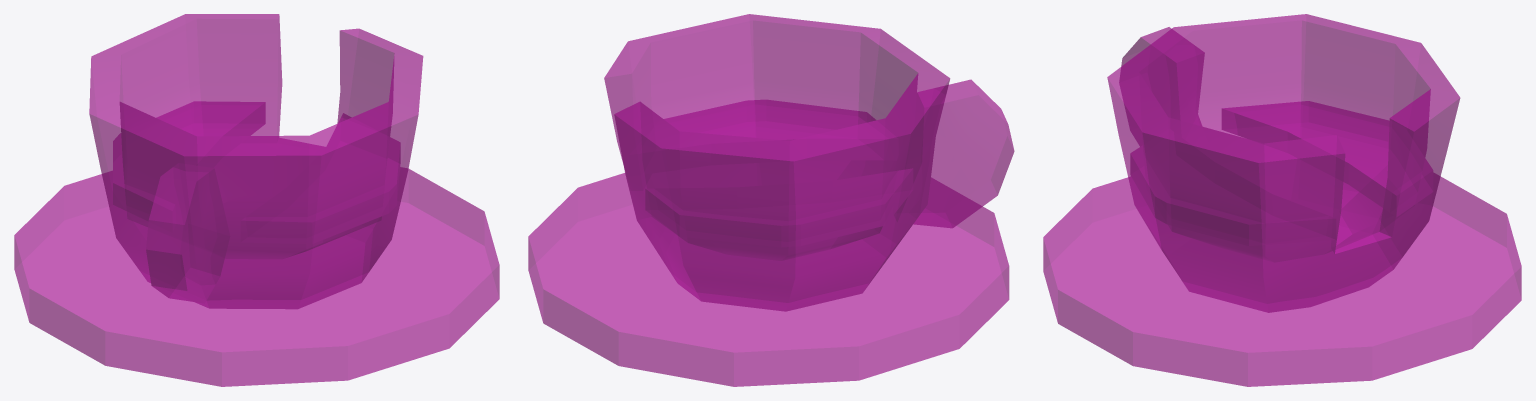
The model's file is SM_Prop_Teacup_Ride_01_Teacup_02_Collision.fbx.
The picture shows the model from 3 angles, left to right: view 1: azimuth 30°, elevation 25°; view 2: azimuth 150°, elevation 25°; view 3: azimuth 270°, elevation 25°; orthographic projection.
Visible parts, largest first — view 1: SM_Prop_Teacup_Ride_01_Teacup_02_Collision; view 2: SM_Prop_Teacup_Ride_01_Teacup_02_Collision; view 3: SM_Prop_Teacup_Ride_01_Teacup_02_Collision.
Boxes of the visible parts, x1,y1,x2,y2 form: SM_Prop_Teacup_Ride_01_Teacup_02_Collision: (14,14,499,386); SM_Prop_Teacup_Ride_01_Teacup_02_Collision: (528,14,1014,386); SM_Prop_Teacup_Ride_01_Teacup_02_Collision: (1043,14,1521,386).
Bounding box in the file's own units: 272 × 128 × 272.
